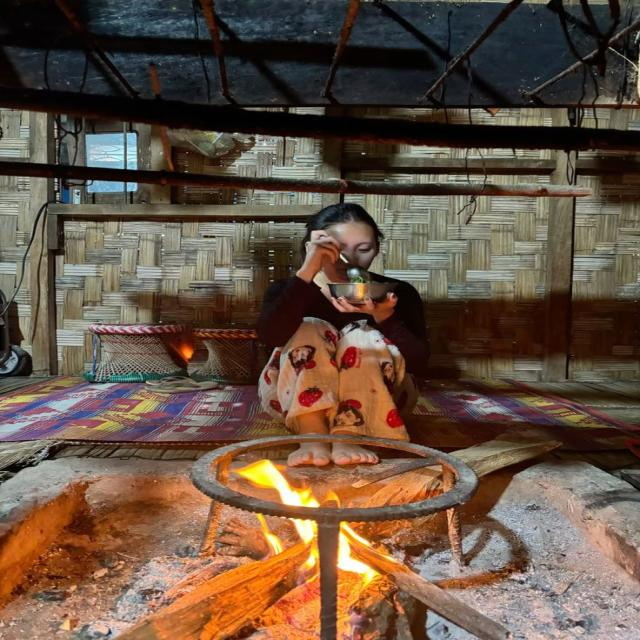fire: (231, 460, 320, 508), (338, 532, 378, 583), (255, 514, 285, 557)
